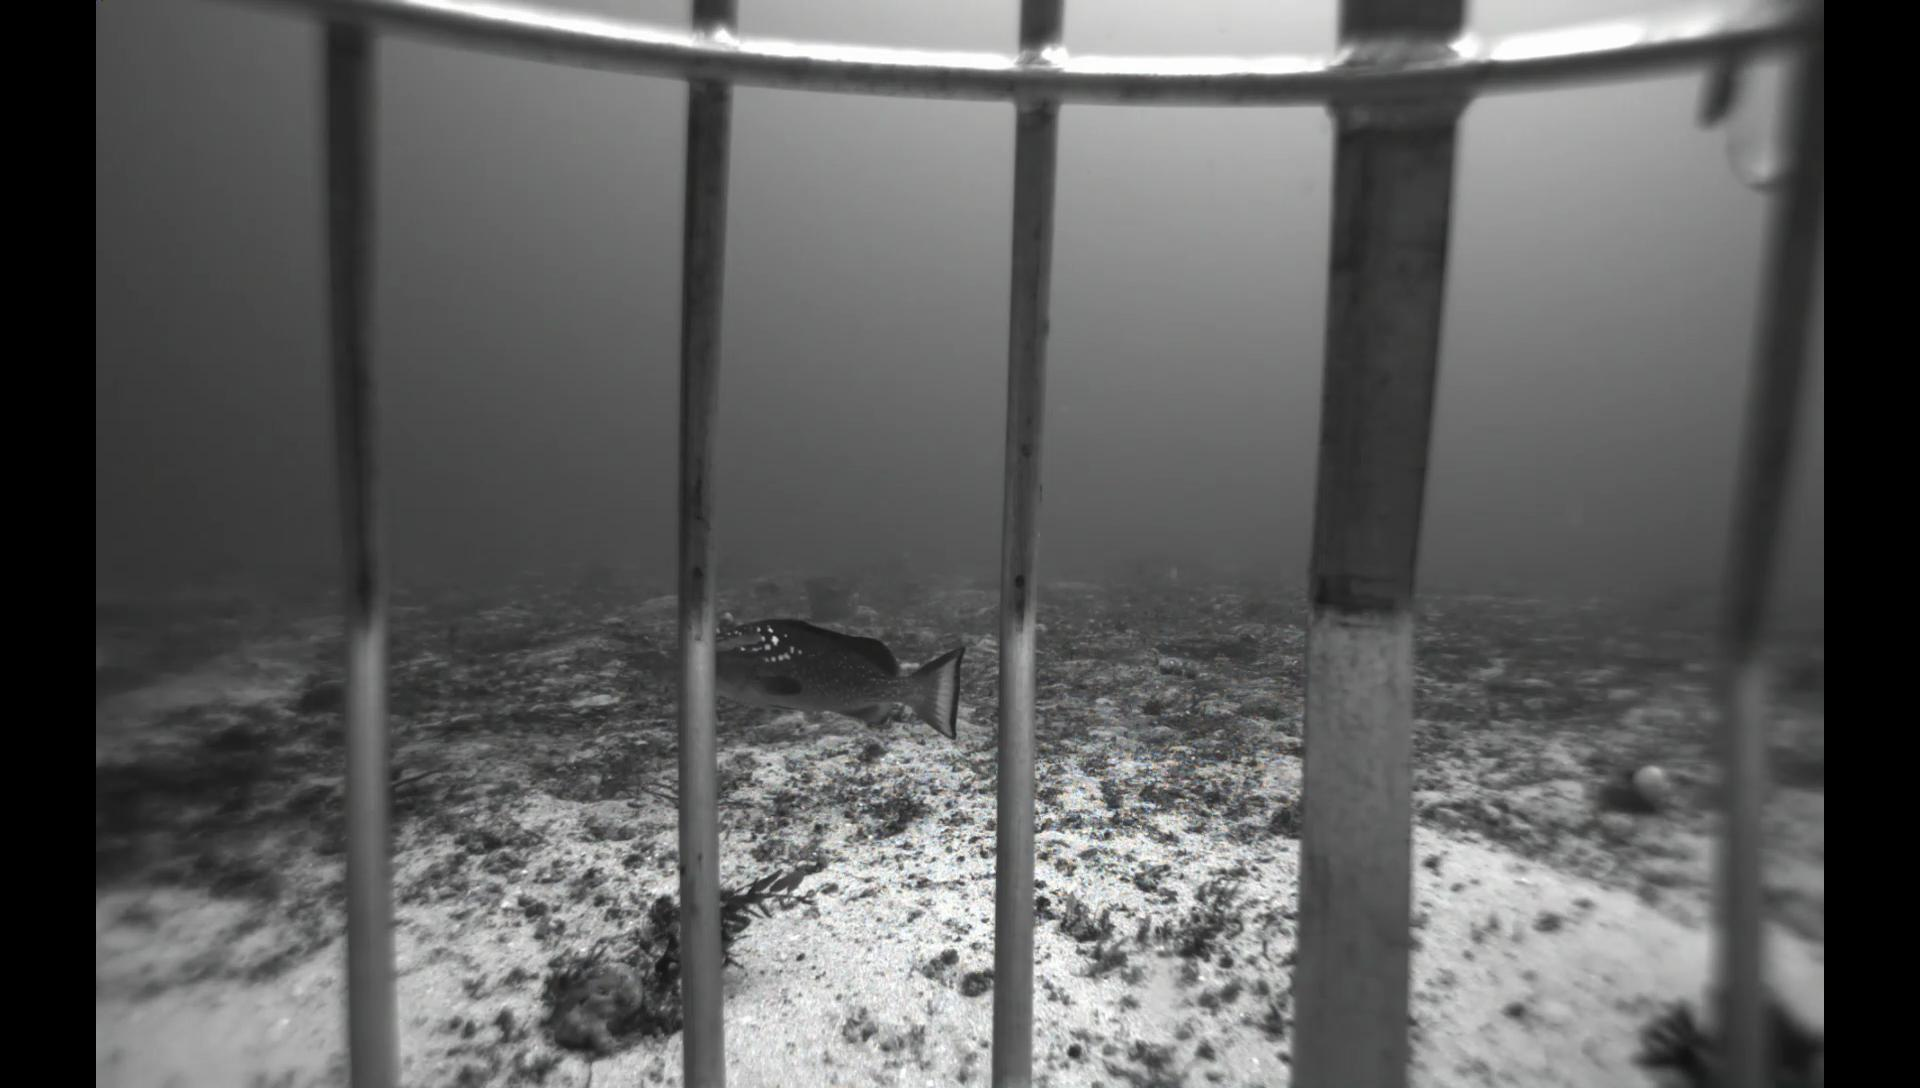CHAETODONOCELLATUS-170260307: (1163, 570, 1182, 586), (1160, 564, 1179, 580)
EPINEPHELUSMORIO-170021211: (713, 615, 969, 745)
HALICHOERESBIVITTATUS-170281202: (167, 713, 243, 742)
PRISTIGENYSALTA-170050401: (287, 677, 345, 719)
